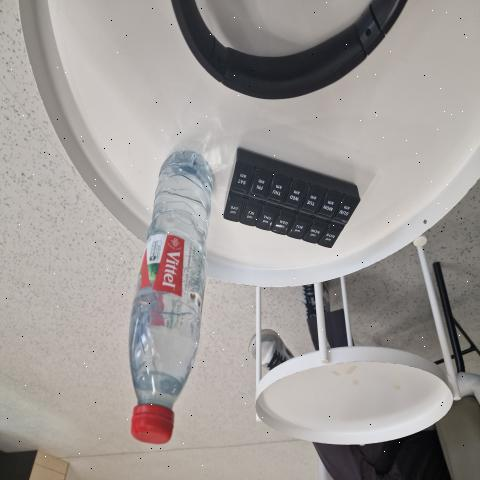PillBox: (214, 133, 373, 259)
